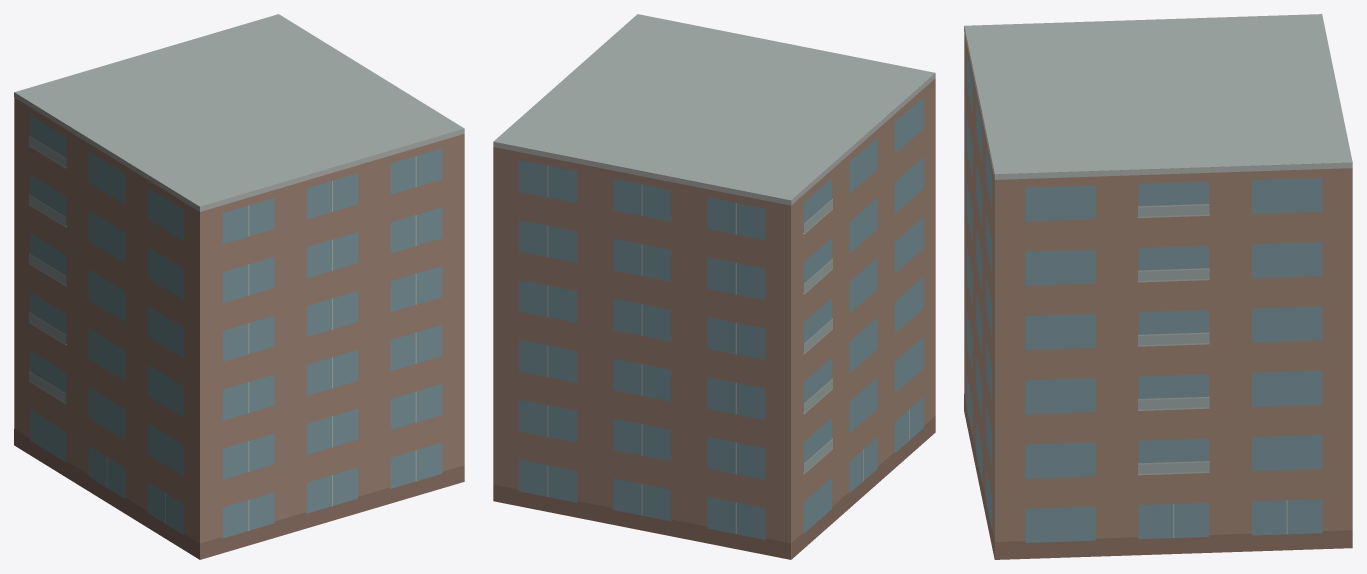
Rendered from survey-upis-32997424.glb.
The picture shows the model from 3 angles, left to right: view 1: azimuth 30°, elevation 25°; view 2: azimuth 150°, elevation 25°; view 3: azimuth 270°, elevation 25°; orthographic projection. The views are drawn at different scales.
Visible parts, largest first — view 1: survey-upis-32997424.tmp; view 2: survey-upis-32997424.tmp; view 3: survey-upis-32997424.tmp.
Part boxes in pixels (x1,y1,x2,y2): survey-upis-32997424.tmp: [14, 14, 464, 559]; survey-upis-32997424.tmp: [493, 14, 935, 559]; survey-upis-32997424.tmp: [964, 14, 1352, 559].
Size of the model in its own units: 14.8 by 16.6 by 15.17.
